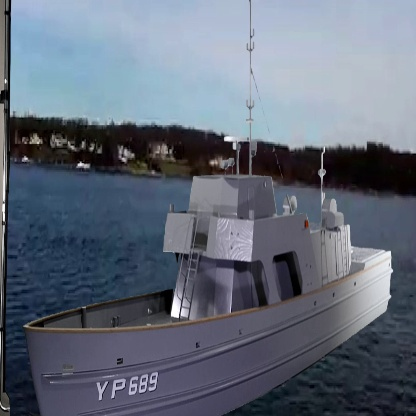YP689: (23, 0, 393, 416)
